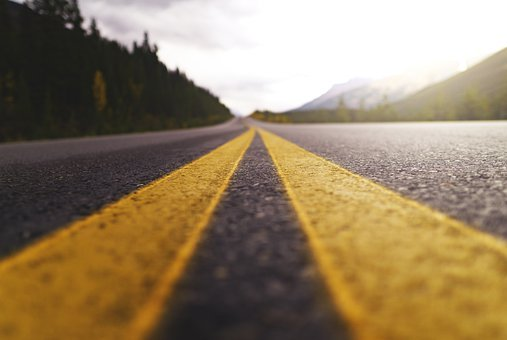road: (24, 119, 502, 339)
